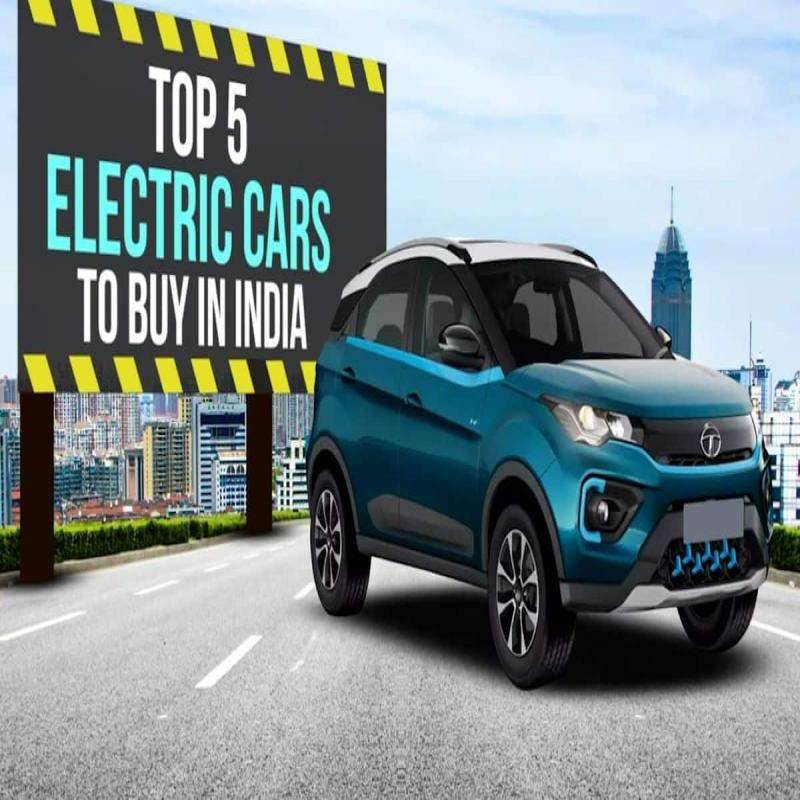car: (311, 238, 792, 691)
